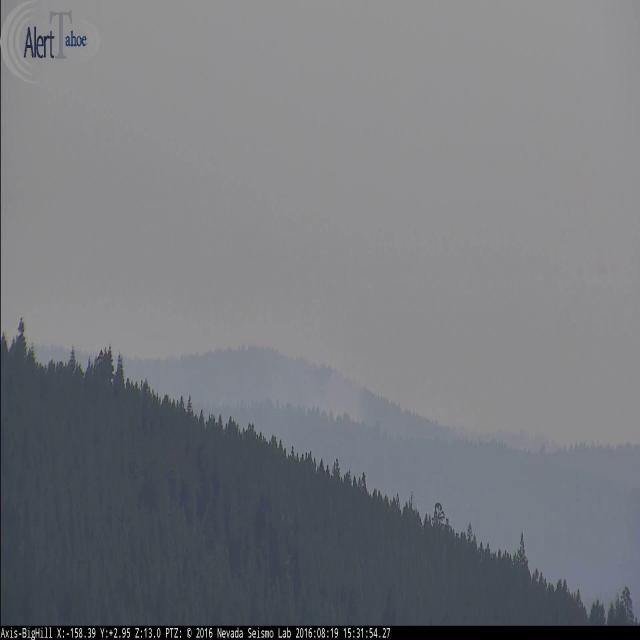smoke: (239, 348, 376, 430)
